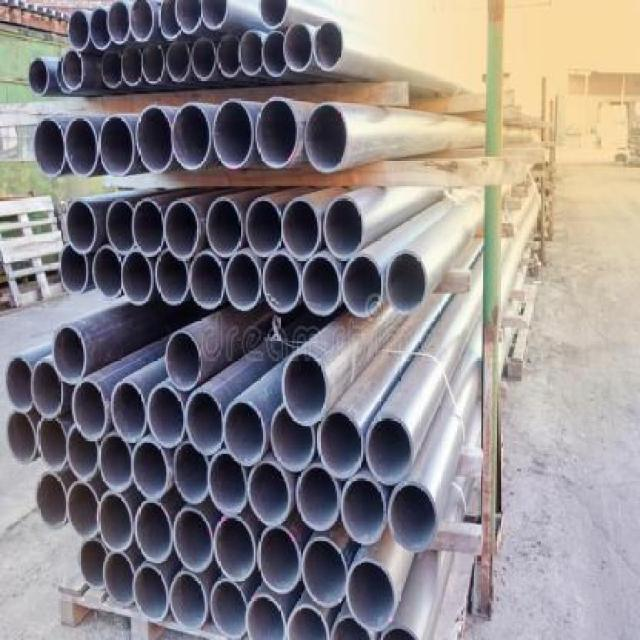pipe: (282, 350, 330, 427), (347, 558, 396, 632), (389, 480, 438, 553), (301, 536, 349, 609), (365, 414, 413, 485), (317, 409, 363, 480), (304, 103, 349, 174), (340, 477, 386, 546), (256, 96, 299, 169), (270, 404, 316, 472), (257, 526, 302, 595), (295, 463, 340, 531), (223, 399, 266, 467), (213, 514, 256, 582), (385, 250, 428, 316), (248, 460, 291, 526), (172, 507, 214, 573), (342, 253, 384, 318), (172, 104, 212, 172), (214, 101, 253, 169), (208, 450, 248, 515), (185, 390, 224, 456), (302, 255, 342, 317), (324, 195, 362, 260), (147, 385, 186, 448), (135, 500, 174, 563), (136, 106, 173, 172), (262, 252, 301, 314), (173, 439, 210, 504), (283, 197, 321, 260), (209, 579, 248, 639), (110, 380, 147, 443), (225, 251, 262, 313), (132, 438, 169, 500), (97, 490, 134, 552), (72, 379, 108, 442), (98, 115, 135, 176), (51, 323, 87, 385), (246, 197, 283, 257), (163, 200, 200, 260), (165, 331, 202, 391), (170, 572, 207, 629), (65, 116, 99, 178), (207, 198, 242, 258), (133, 564, 169, 621), (31, 358, 64, 420), (99, 432, 133, 492), (190, 251, 224, 310), (131, 198, 164, 257), (156, 249, 190, 306), (34, 116, 65, 178), (245, 594, 287, 639), (67, 423, 100, 480), (35, 472, 68, 529), (103, 550, 136, 607), (121, 250, 154, 306), (37, 414, 68, 471), (68, 481, 99, 538), (66, 200, 97, 255), (5, 356, 34, 414), (6, 410, 37, 464), (313, 19, 344, 72), (78, 537, 109, 590), (107, 200, 136, 255), (287, 603, 330, 640), (93, 245, 122, 298), (282, 23, 313, 72), (59, 243, 88, 294), (238, 29, 264, 77), (262, 31, 288, 77), (191, 36, 217, 81), (106, 0, 131, 45), (130, 0, 156, 43), (216, 36, 241, 79), (166, 41, 191, 83), (157, 1, 182, 41), (89, 6, 111, 51), (142, 42, 165, 84), (120, 45, 143, 87), (62, 48, 85, 90), (258, 0, 289, 29), (176, 0, 202, 34), (68, 10, 89, 52), (201, 0, 227, 31), (29, 57, 49, 96), (101, 52, 122, 89)
